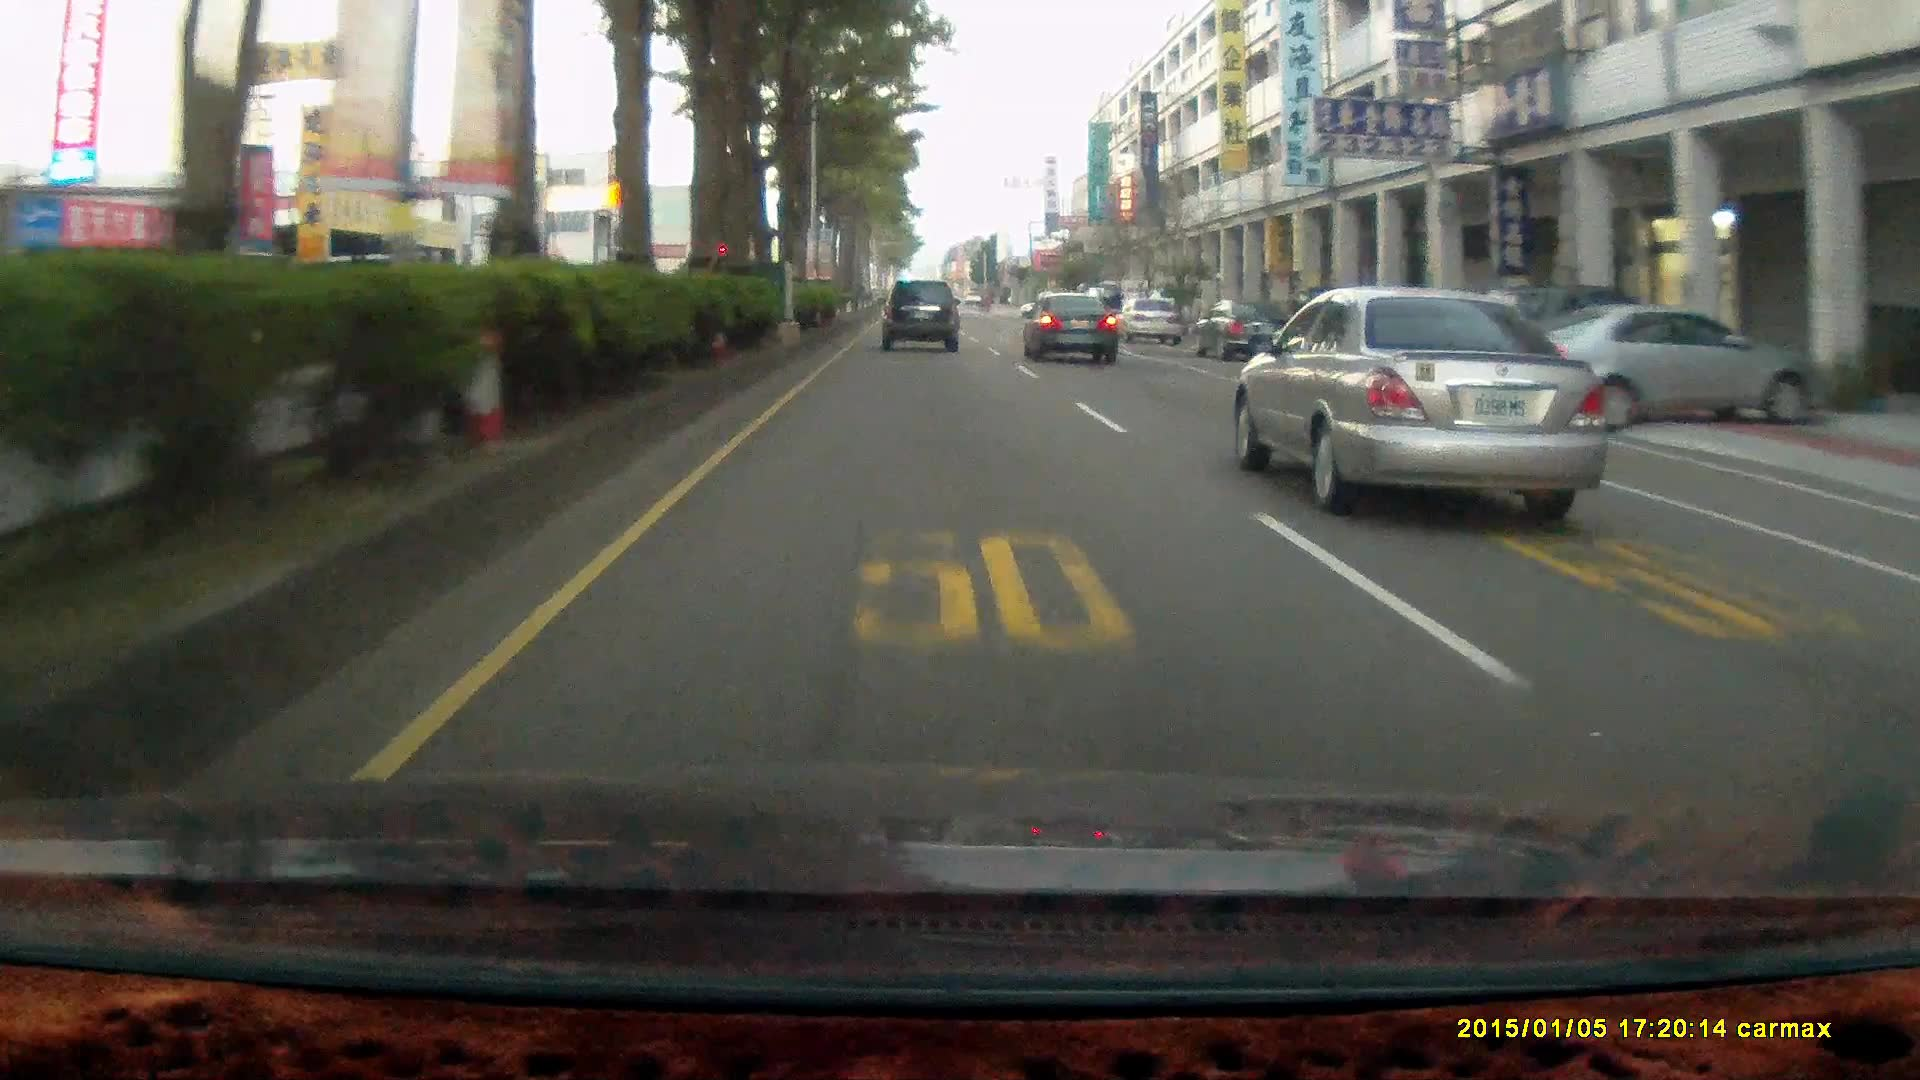vehicle: (1226, 286, 1623, 524), (1487, 302, 1837, 429), (1501, 301, 1822, 427), (1189, 295, 1299, 361), (1025, 294, 1124, 367), (1021, 291, 1116, 367), (881, 280, 963, 356), (878, 278, 961, 349), (1112, 295, 1183, 345), (1120, 297, 1185, 347)
